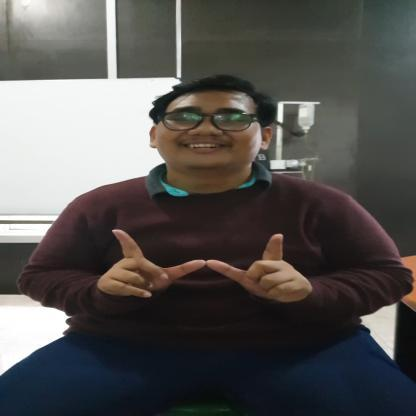W: (98, 229, 310, 303)
